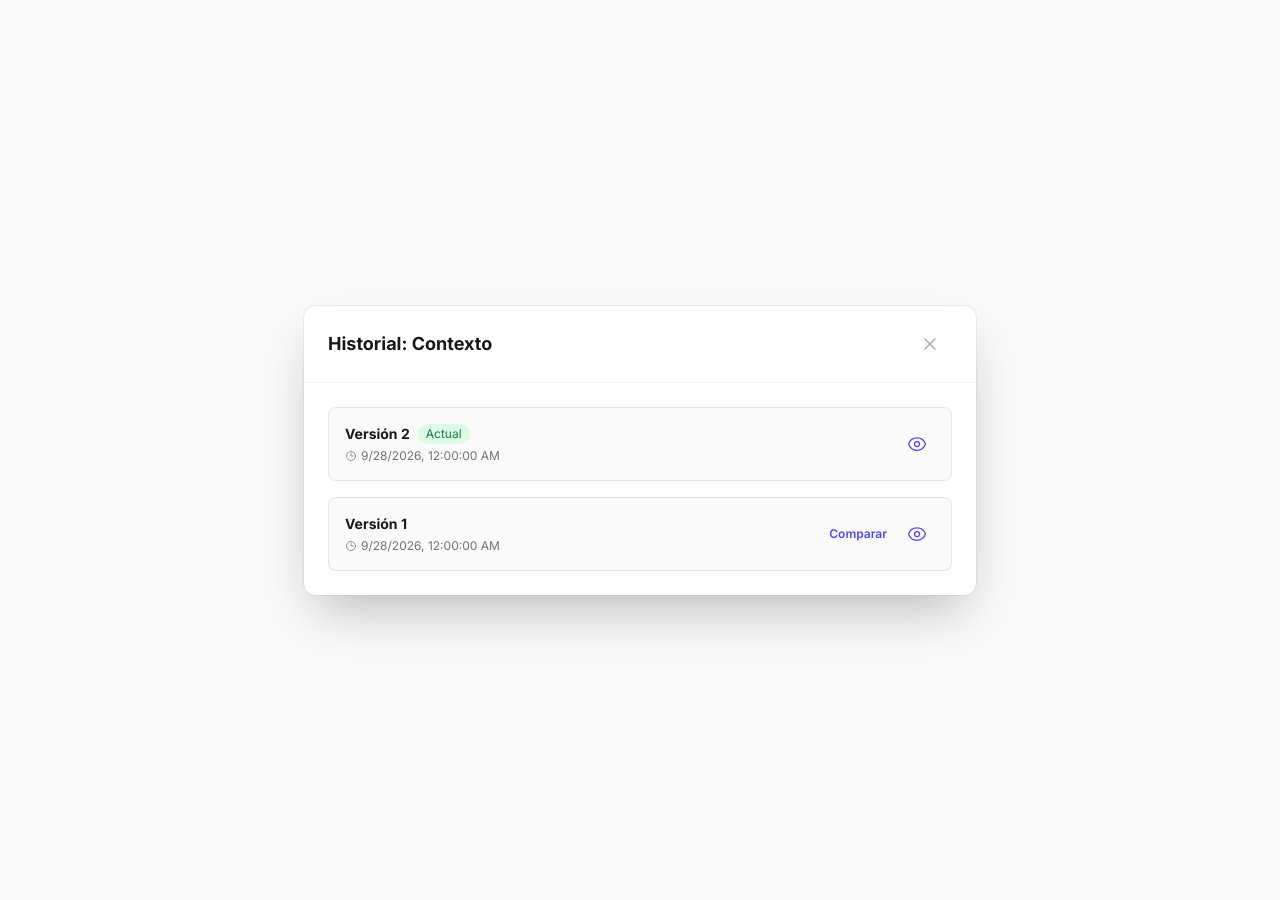
Scenario: RealArtifactHistoryModal — comparar › un documento se sigue comparando como texto
Click the button "Comparar": {"x": 858, "y": 534} [821,520,895,548]
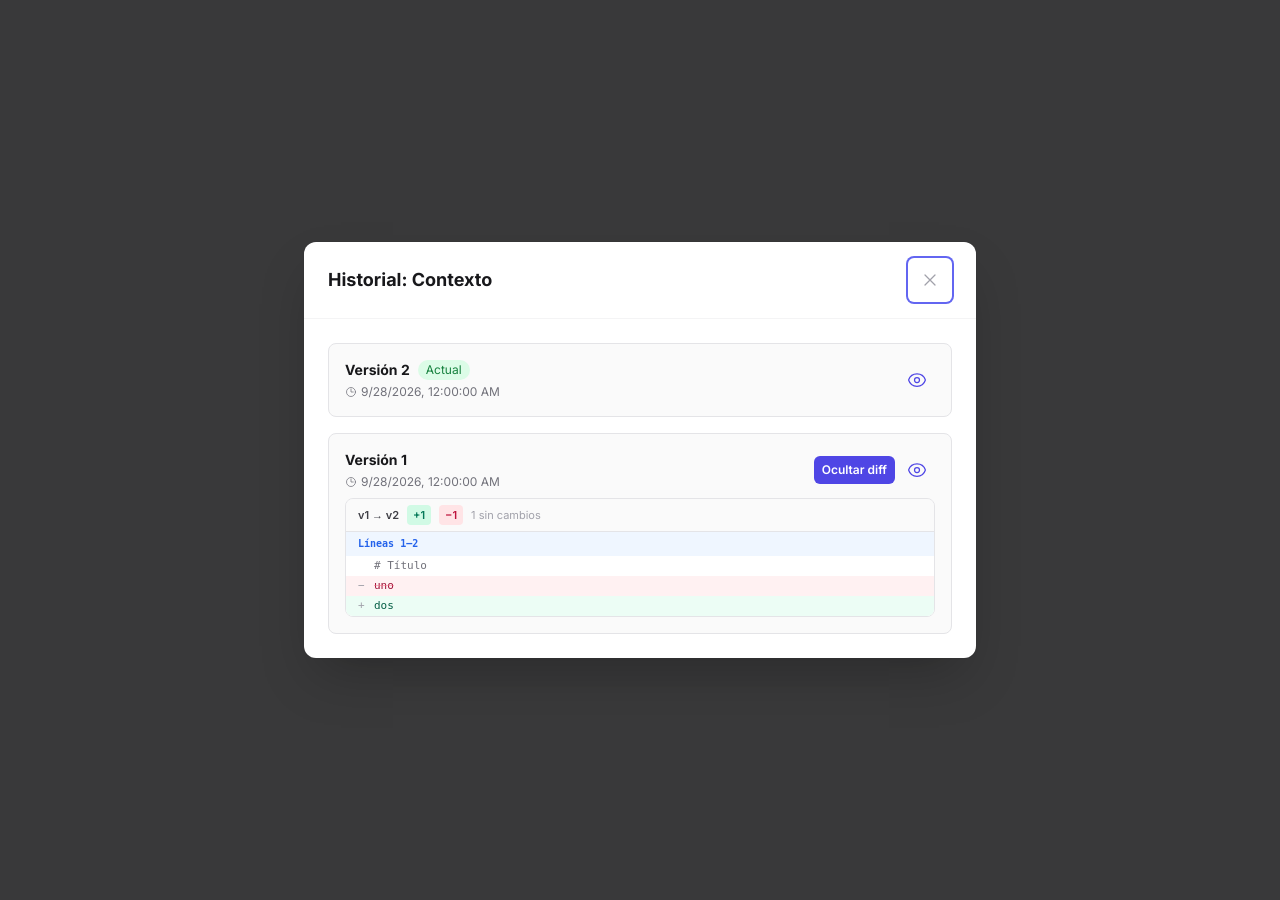
Check: the text "v1 → v2" is shown, box [358,507,399,523]
